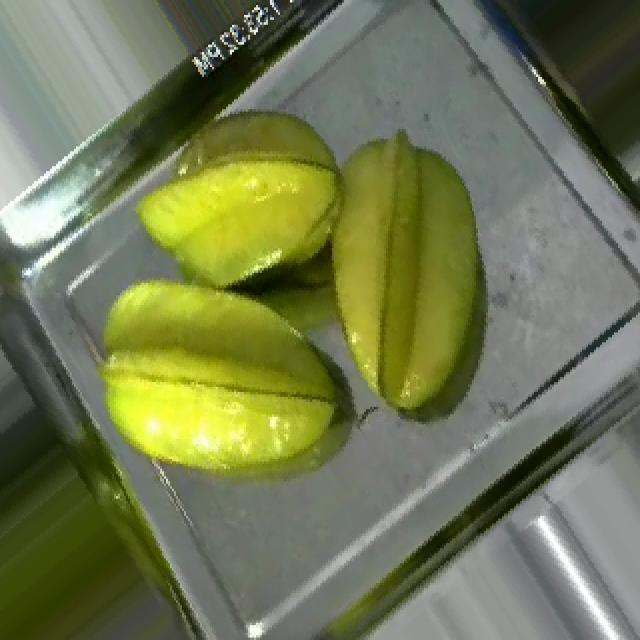fruit: (106, 64, 414, 422), (272, 82, 562, 454), (52, 228, 388, 538)
